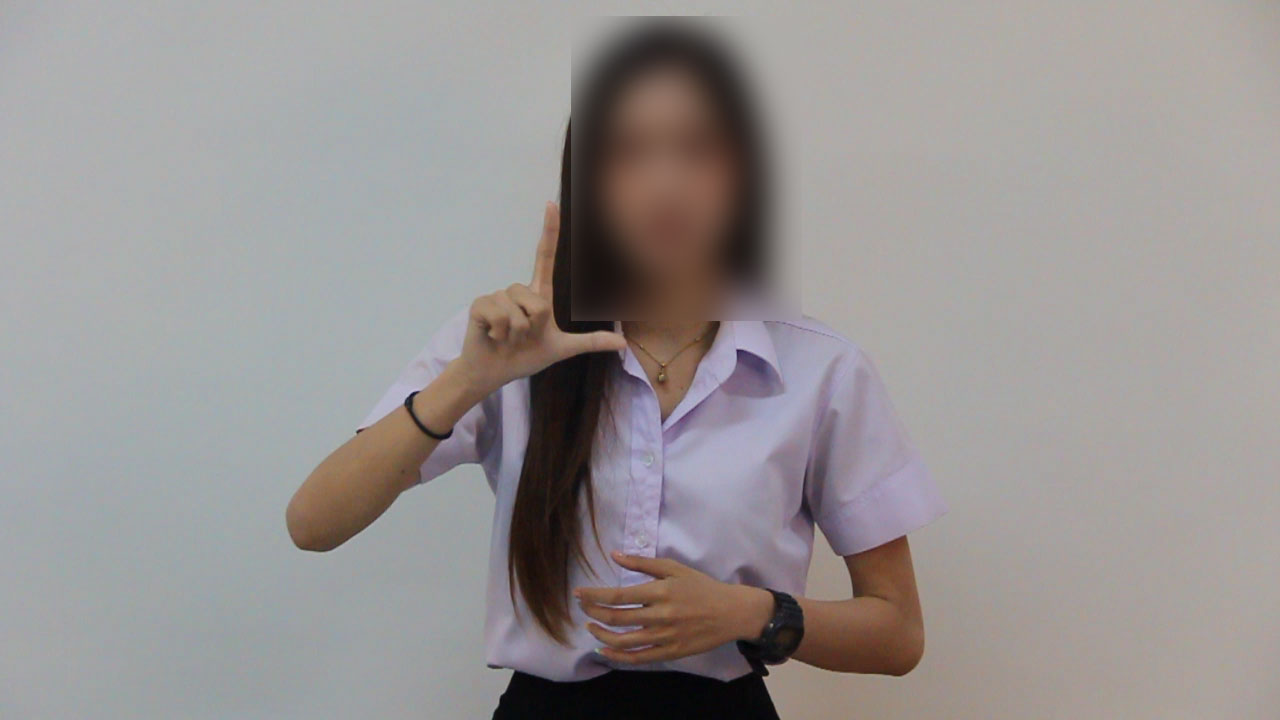lor: (446, 190, 634, 407)
